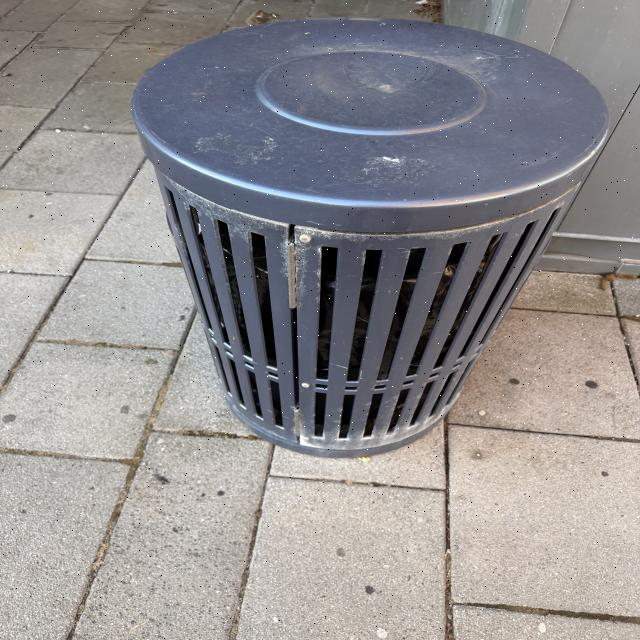Dustbin: (130, 19, 610, 460)
